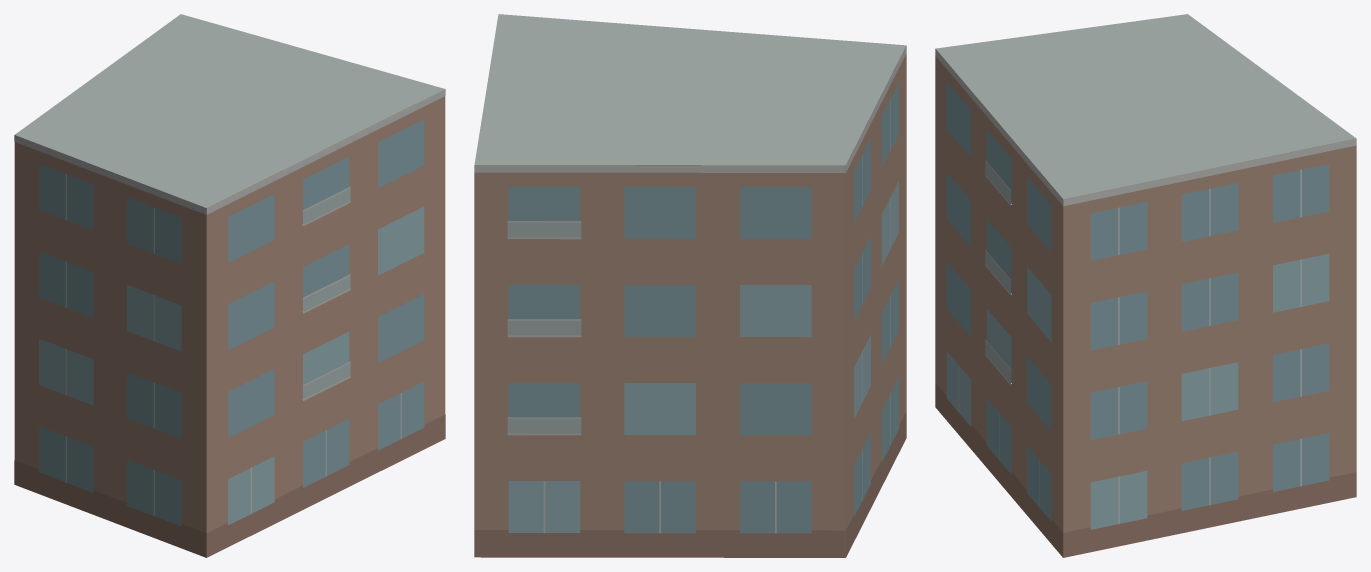
File: survey-upis-32792432.glb
3 views of the same model, side by side, from view 1: azimuth 30°, elevation 25°; view 2: azimuth 150°, elevation 25°; view 3: azimuth 270°, elevation 25° (orthographic). The views are drawn at different scales.
Parts seen in each view (by area): view 1: survey-upis-32792432.tmp; view 2: survey-upis-32792432.tmp; view 3: survey-upis-32792432.tmp.
Part boxes in pixels (x1,y1,x2,y2): survey-upis-32792432.tmp: (14, 14, 445, 557); survey-upis-32792432.tmp: (474, 14, 906, 557); survey-upis-32792432.tmp: (935, 14, 1356, 557).
Size of the model in its own units: 13.78 by 12.43 by 13.24.
